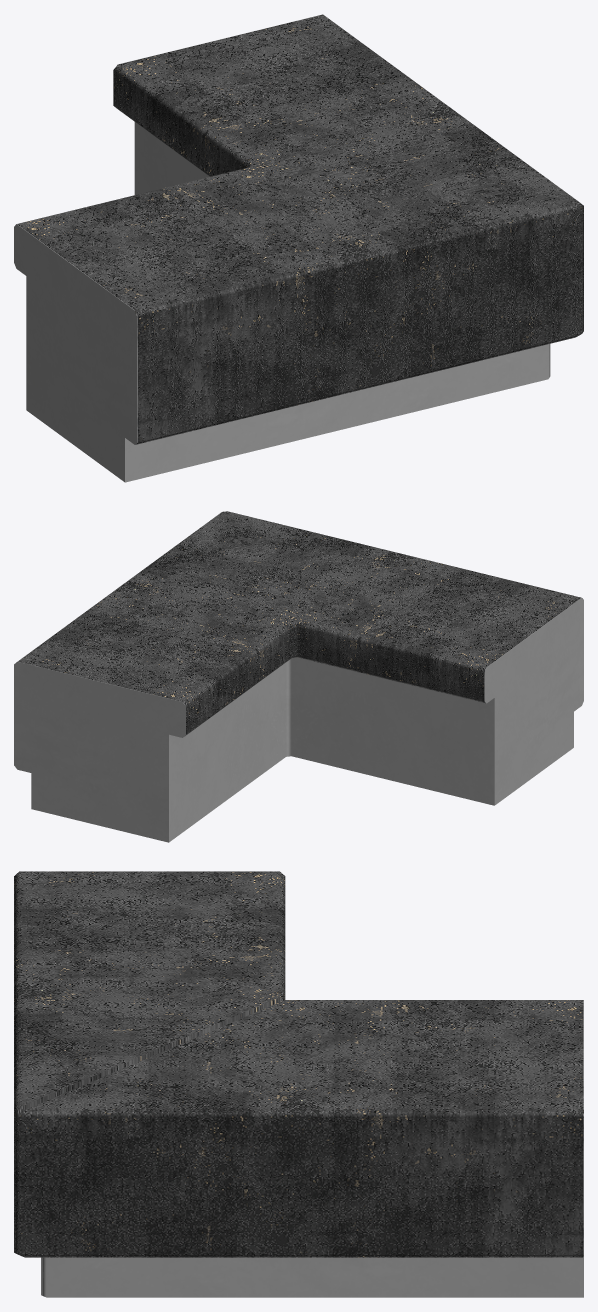
Rendered from SM_RoofLedge_CornerInner_01.fbx.
3 renders of one model, top to bottom at view 1: azimuth 30°, elevation 25°; view 2: azimuth 150°, elevation 25°; view 3: azimuth 270°, elevation 25°, orthographic. The views are drawn at different scales.
Parts seen in each view (by area): view 1: SM_RoofLedge_CornerInner_01_LOD0; view 2: SM_RoofLedge_CornerInner_01_LOD0; view 3: SM_RoofLedge_CornerInner_01_LOD0.
Part boxes in pixels (left/top/right/bottom): SM_RoofLedge_CornerInner_01_LOD0: left=14, top=14, right=583, bottom=482; SM_RoofLedge_CornerInner_01_LOD0: left=14, top=511, right=583, bottom=842; SM_RoofLedge_CornerInner_01_LOD0: left=14, top=871, right=583, bottom=1297.
Bounding box in the file's own units: 105 × 105 × 40.
